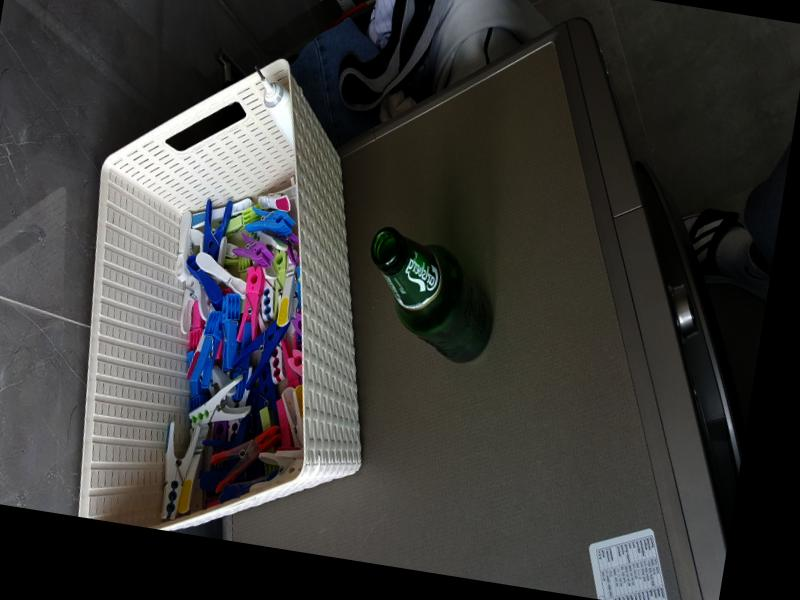Beer: (358, 224, 507, 364)
